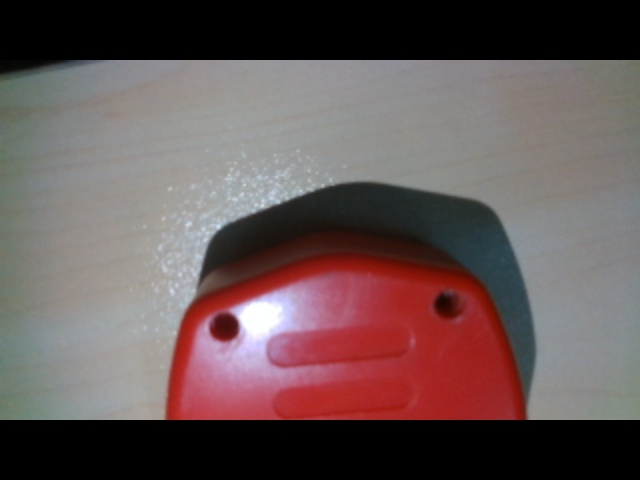Screw holes: (431, 287, 470, 322), (207, 311, 243, 345)
